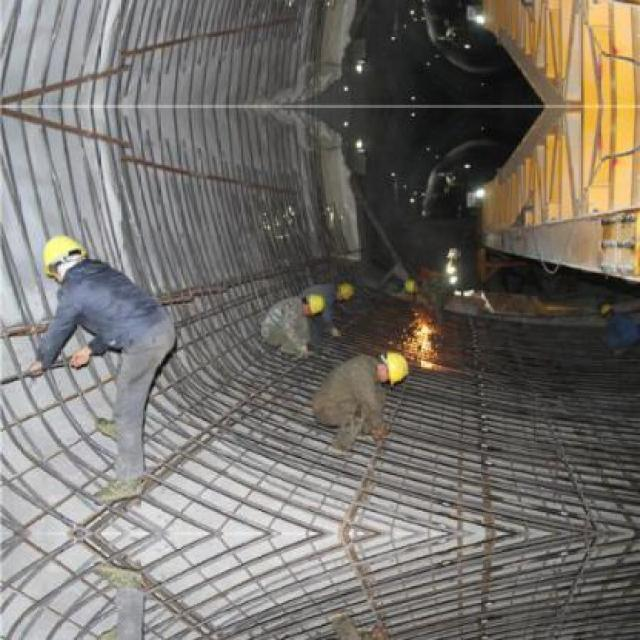helmet: (39, 229, 84, 278), (374, 346, 411, 383), (298, 289, 327, 317), (332, 278, 361, 304), (594, 298, 618, 320), (400, 274, 426, 294)
